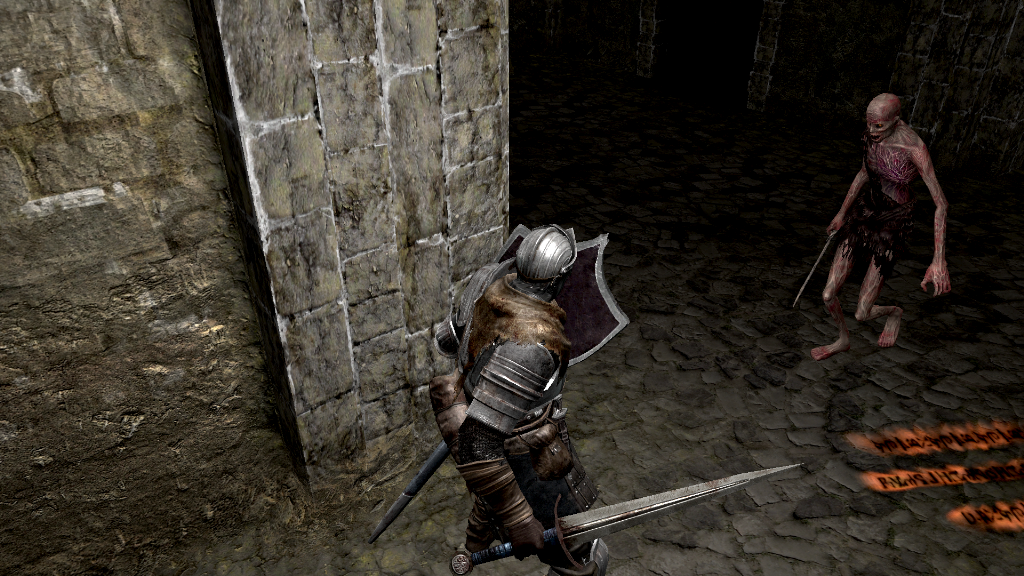hollow: (811, 93, 952, 361)
player: (424, 217, 805, 576)
